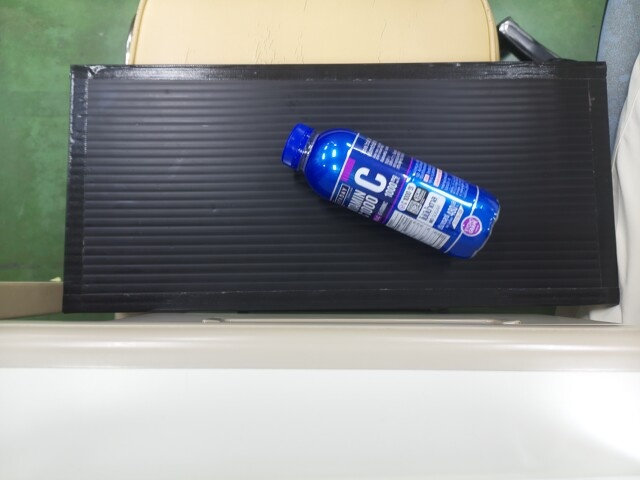plastic_bottle: (274, 106, 498, 258)
